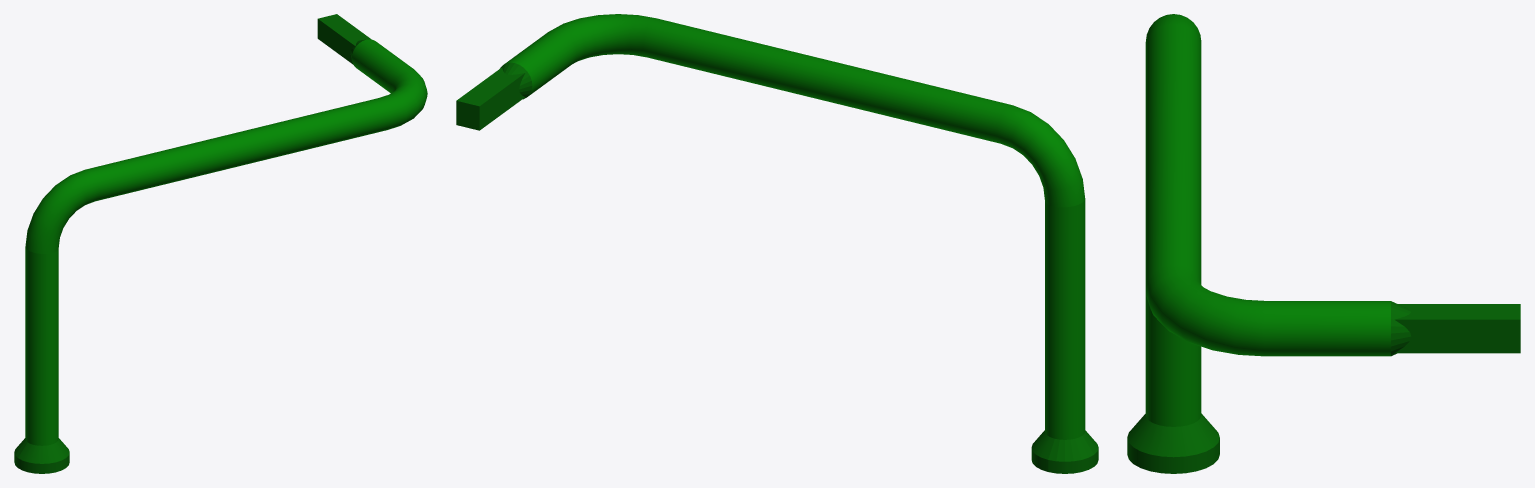
Rendered from 窑尾负压_T12安装处.glb.
3 renders of one model, left to right at view 1: azimuth 30°, elevation 25°; view 2: azimuth 150°, elevation 25°; view 3: azimuth 270°, elevation 25°, orthographic. The views are drawn at different scales.
Visible parts, largest first — view 1: root; view 2: root; view 3: root.
Boxes of the visible parts, x1,y1,x2,y2 form: root: (14,14,427,473); root: (456,14,1098,473); root: (1127,14,1520,473).
Bounding box in the file's own units: 4.45 × 2.79 × 2.12.
